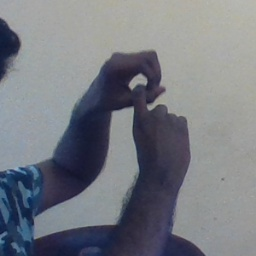Q: (85, 44, 194, 162)
